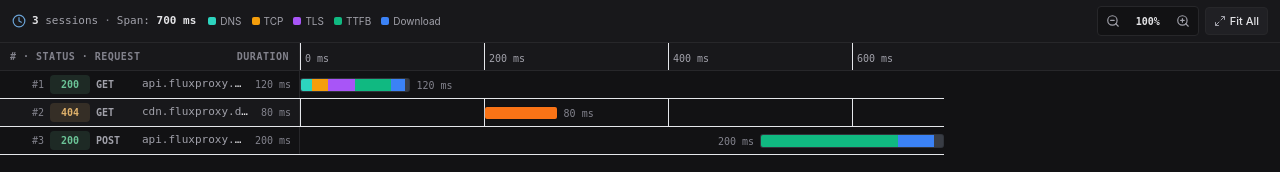
Test: WaterfallTimeline › supports Zoom In, Zoom Out, and Fit All controls
The width and height of the screenshot is (1280, 172).
Expected: the button "100%" is shown, [1126, 12, 1170, 30]
Click the button named "Zoom In" at (1183, 21), box [1170, 9, 1196, 33]
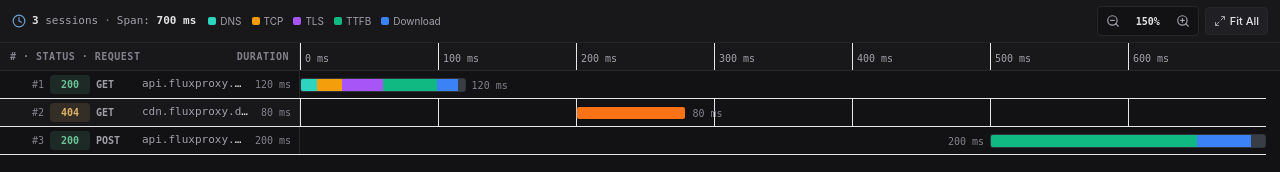
Now the button "150%" is shown, box [1126, 12, 1170, 30]
Click the button named "Zoom In" at (1183, 21), box [1170, 9, 1196, 33]
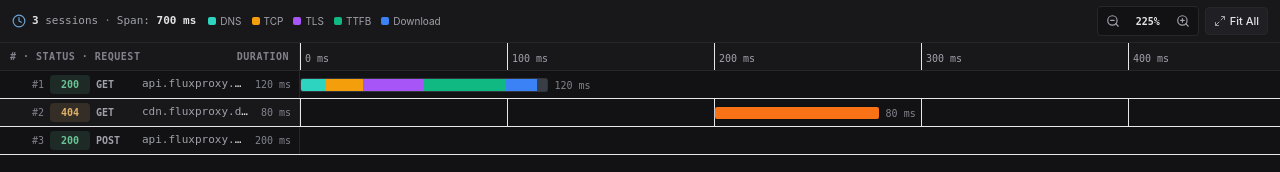
Now the button "225%" is shown, box [1126, 12, 1170, 30]
Click the button named "Zoom Out" at (1113, 21), box [1100, 9, 1126, 33]
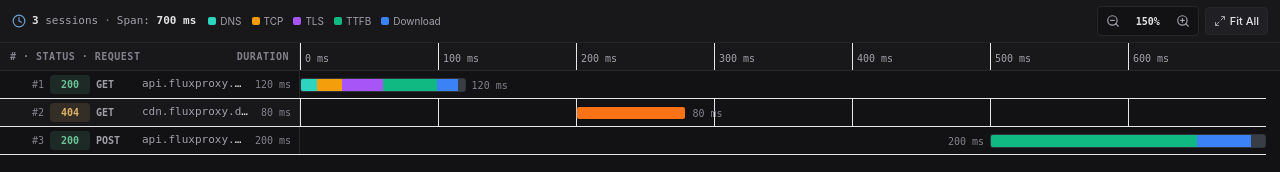
Now the button "150%" is shown, box [1126, 12, 1170, 30]
Click the button "Fit All" at (1236, 21), box [1205, 7, 1268, 35]
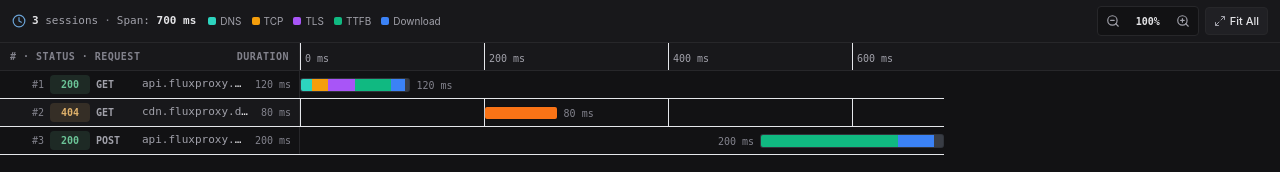
Now the button "100%" is shown, box [1126, 12, 1170, 30]
